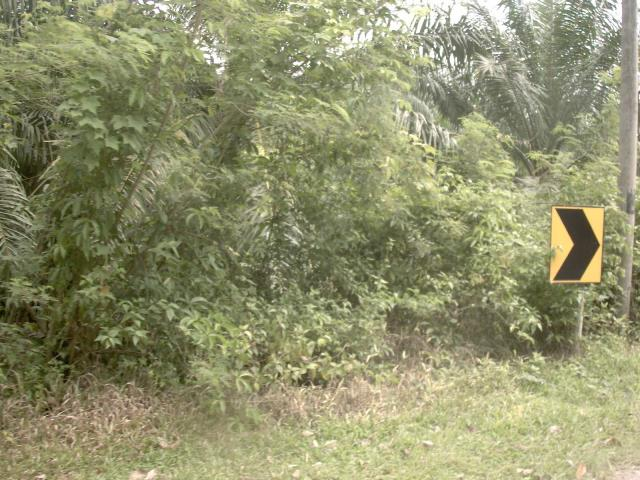traffic_sign: (539, 193, 614, 297)
